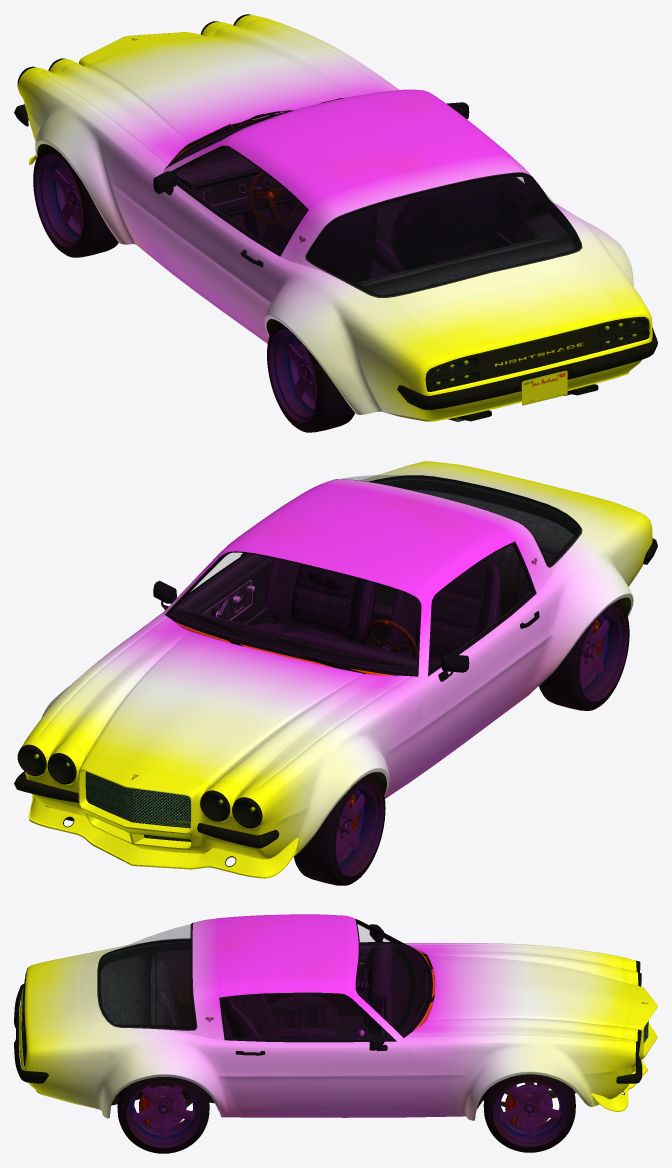
The model's file is nightshade.glb.
3 views of the same model, one above another, from view 1: azimuth 30°, elevation 25°; view 2: azimuth 150°, elevation 25°; view 3: azimuth 270°, elevation 25° (orthographic). The views are drawn at different scales.
Parts seen in each view (by area): view 1: bodyshell, chassis, bonnet, windscreen_r, door_dside_f, boot, window_lf, wheel_lf, wheel_lr, bumper_r, door_pside_f, steeringwheel; view 2: bodyshell, bonnet, chassis, door_dside_f, window_lf, wheel_lf, wheel_lr, bumper_f, windscreen_r, door_pside_f, boot, steeringwheel; view 3: bodyshell, chassis, bonnet, door_pside_f, windscreen_r, window_rf, wheel_rf, wheel_rr, boot, door_dside_f, bumper_r, bumper_f.
Part boxes in pixels (<box>): bodyshell: <box>14,14,652,421</box>; chassis: <box>37,98,636,384</box>; bonnet: <box>40,18,388,164</box>; windscreen_r: <box>306,174,580,296</box>; door_dside_f: <box>140,171,281,336</box>; boot: <box>405,267,622,359</box>; window_lf: <box>175,147,305,252</box>; wheel_lf: <box>33,144,118,257</box>; wheel_lr: <box>267,321,354,432</box>; bumper_r: <box>397,327,657,409</box>; door_pside_f: <box>410,102,533,249</box>; steeringwheel: <box>248,171,299,224</box>; bodyshell: <box>14,461,652,859</box>; bonnet: <box>40,617,410,790</box>; chassis: <box>34,475,630,811</box>; door_dside_f: <box>411,591,547,772</box>; window_lf: <box>430,545,532,669</box>; wheel_lf: <box>294,773,385,885</box>; wheel_lr: <box>539,600,629,710</box>; bumper_f: <box>28,795,299,878</box>; windscreen_r: <box>343,475,580,565</box>; door_pside_f: <box>153,553,276,625</box>; boot: <box>406,463,621,518</box>; steeringwheel: <box>366,619,417,657</box>; bodyshell: <box>19,914,657,1120</box>; chassis: <box>98,919,576,1116</box>; bonnet: <box>408,945,631,1040</box>; door_pside_f: <box>224,1032,421,1108</box>; windscreen_r: <box>98,923,195,1029</box>; window_rf: <box>221,994,390,1039</box>; wheel_rf: <box>483,1074,575,1152</box>; wheel_rr: <box>117,1077,209,1153</box>; boot: <box>24,957,87,1037</box>; door_dside_f: <box>268,924,392,1016</box>; bumper_r: <box>14,984,48,1083</box>; bumper_f: <box>591,1061,647,1111</box>.
Size of the model in its own units: 2.17 by 1.27 by 4.74.
Materials: 17 (17 with a texture image).
